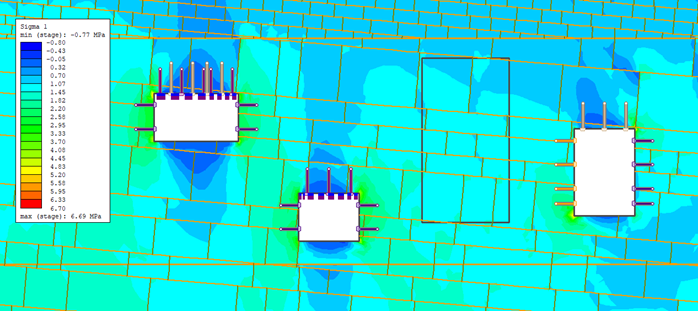crown: (589, 119, 615, 127), (181, 83, 206, 91), (314, 184, 338, 192)
label: (16, 18, 110, 223)
tunnel-opening: (573, 129, 634, 216), (153, 93, 237, 140), (299, 193, 359, 242)
